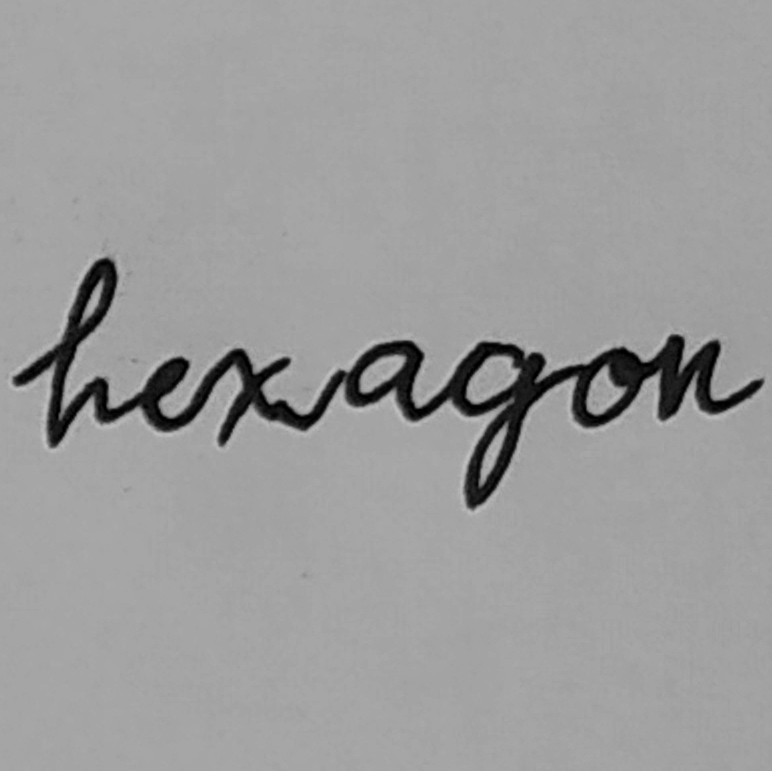a: (337, 331, 432, 427)
e: (133, 351, 194, 437)
g: (443, 336, 552, 515)
h: (42, 253, 124, 448)
n: (654, 330, 724, 427)
o: (566, 343, 650, 434)
x: (205, 343, 299, 449)
